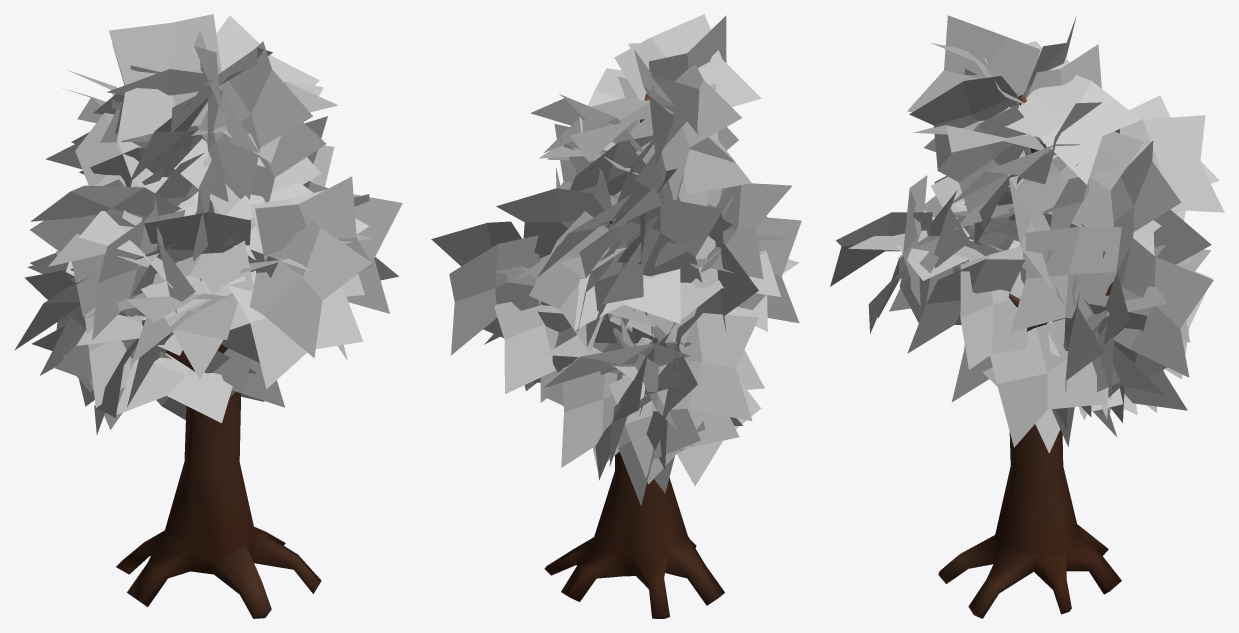
Rendered from TreeStage3.1.fbx.
3 views of the same model, side by side, from view 1: azimuth 30°, elevation 25°; view 2: azimuth 150°, elevation 25°; view 3: azimuth 270°, elevation 25° (orthographic). The views are drawn at different scales.
Visible parts, largest first — view 1: Tree3Leaves, Tree3Trunk; view 2: Tree3Leaves, Tree3Trunk; view 3: Tree3Leaves, Tree3Trunk.
Boxes of the visible parts, <box> form: Tree3Leaves: <box>14,14,402,434</box>; Tree3Trunk: <box>116,260,321,618</box>; Tree3Leaves: <box>431,14,801,505</box>; Tree3Trunk: <box>544,93,724,618</box>; Tree3Leaves: <box>830,15,1224,453</box>; Tree3Trunk: <box>938,95,1121,618</box>.
Size of the model in its own units: 216 by 364 by 237.
